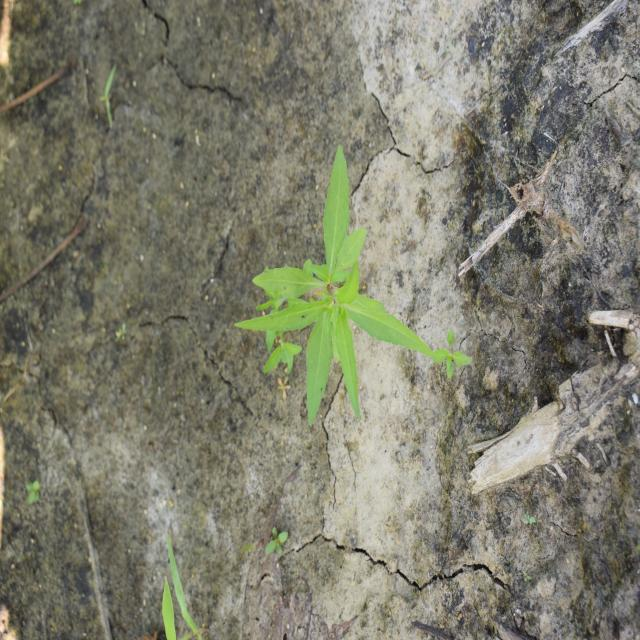Eclipta: (232, 142, 436, 429)
